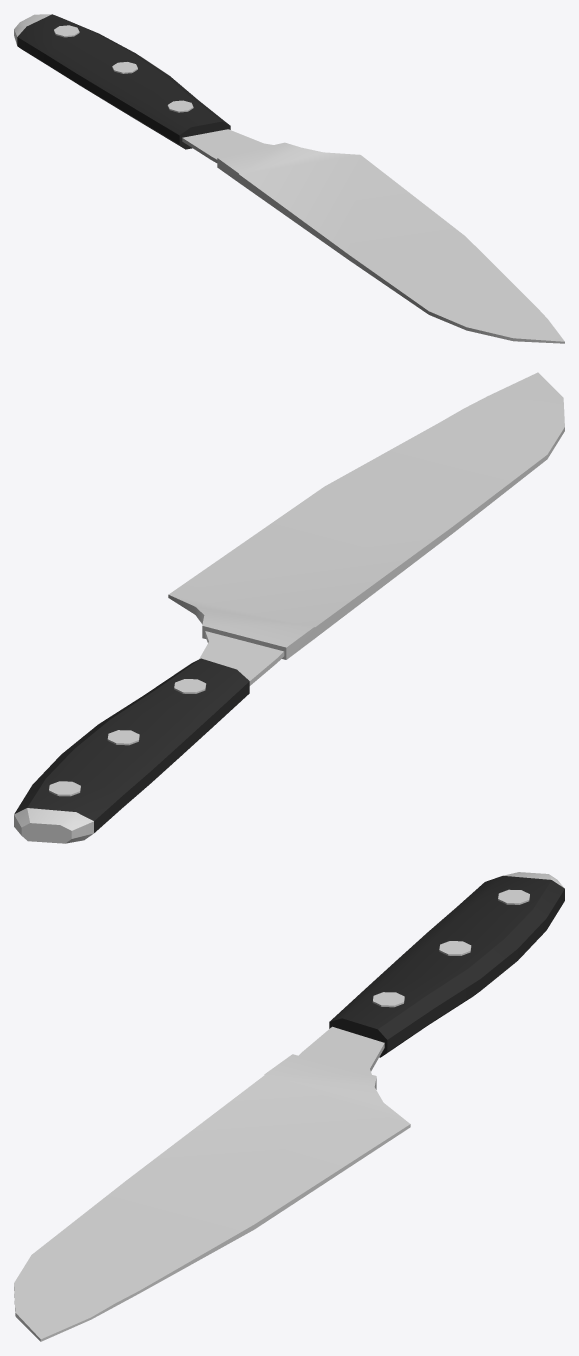
File: SantokuKnife_01.fbx
The picture shows the model from 3 angles, top to bottom: view 1: azimuth 30°, elevation 25°; view 2: azimuth 150°, elevation 25°; view 3: azimuth 330°, elevation 25°; orthographic projection. The views are drawn at different scales.
Parts seen in each view (by area): view 1: SantokuKnife_01; view 2: SantokuKnife_01; view 3: SantokuKnife_01.
Boxes of the visible parts, <box> form: SantokuKnife_01: <box>14,14,564,343</box>; SantokuKnife_01: <box>14,372,564,843</box>; SantokuKnife_01: <box>14,872,564,1341</box>.
Bounding box in the file's own units: 0.0635 × 0.0103 × 0.3567.
